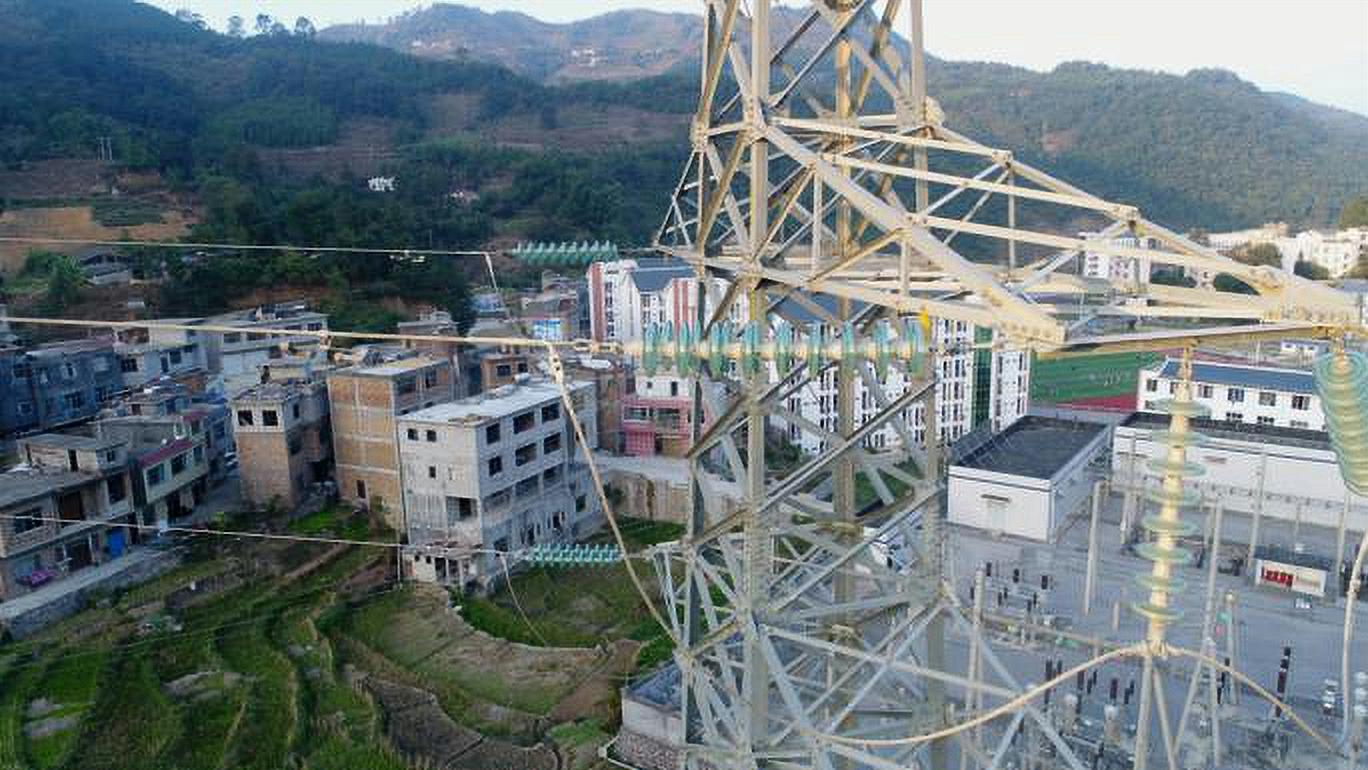insulator: (639, 313, 926, 385), (1128, 395, 1213, 629), (1305, 345, 1368, 501), (511, 236, 621, 270), (521, 540, 625, 571)
